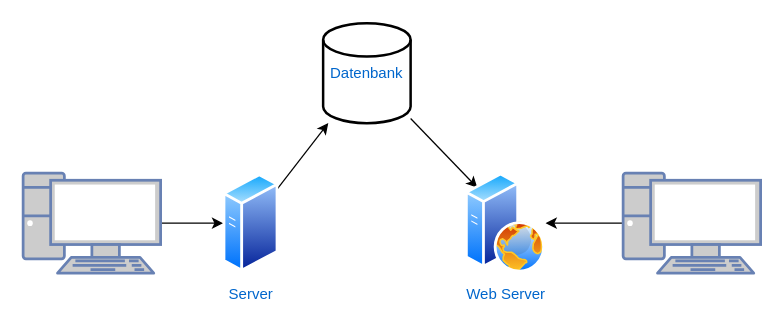
Some shapes in this 783 by 324 pixel diagram are drawn without their labels. Here are the shapes that lost their labels. From the top down, the box of each, then its label:
(21, 171, 161, 274): Client
(621, 171, 761, 274): Administrator
